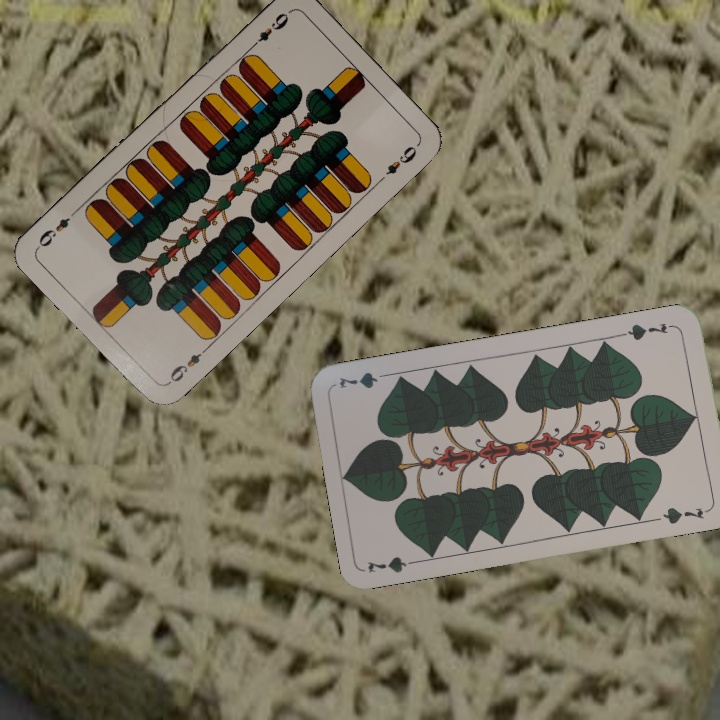E9: (164, 342, 211, 387), (245, 8, 292, 52)
G7: (619, 318, 678, 343), (364, 552, 424, 576)
